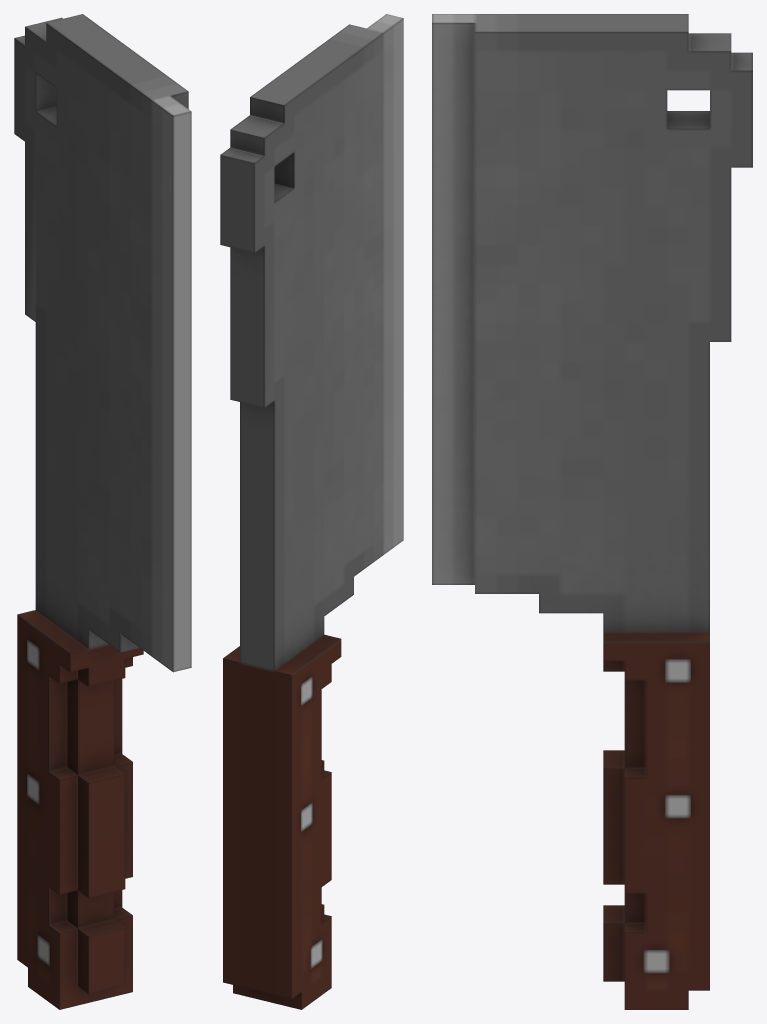
File: RD_CHOPPER.glb
The picture shows the model from 3 angles, left to right: view 1: azimuth 30°, elevation 25°; view 2: azimuth 150°, elevation 25°; view 3: azimuth 270°, elevation 25°; orthographic projection. The views are drawn at different scales.
Parts seen in each view (by area): view 1: BUTCHER_KNIFE; view 2: BUTCHER_KNIFE; view 3: BUTCHER_KNIFE.
Part boxes in pixels (bbox=[...]): BUTCHER_KNIFE: bbox=[14, 14, 191, 1009]; BUTCHER_KNIFE: bbox=[220, 14, 403, 1009]; BUTCHER_KNIFE: bbox=[432, 14, 752, 1009].
Bounding box in the file's own units: 0.0551 × 0.689 × 0.2067.
1 material, 1 textured.
